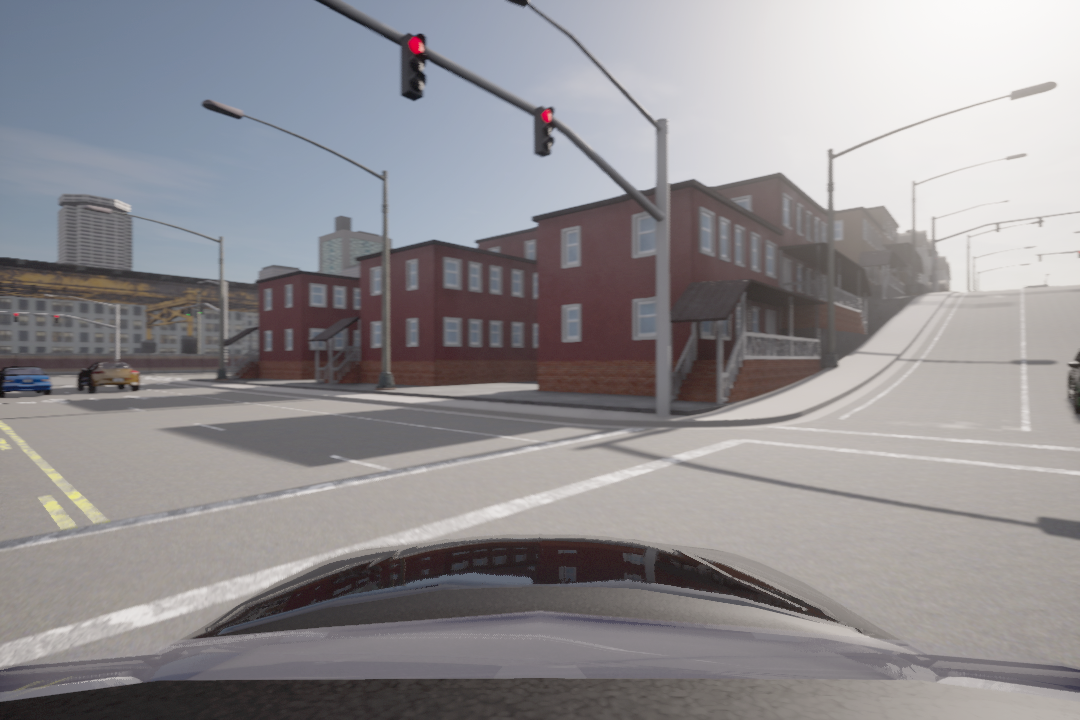TrafficLight: (401, 27, 428, 104), (534, 103, 555, 155)
